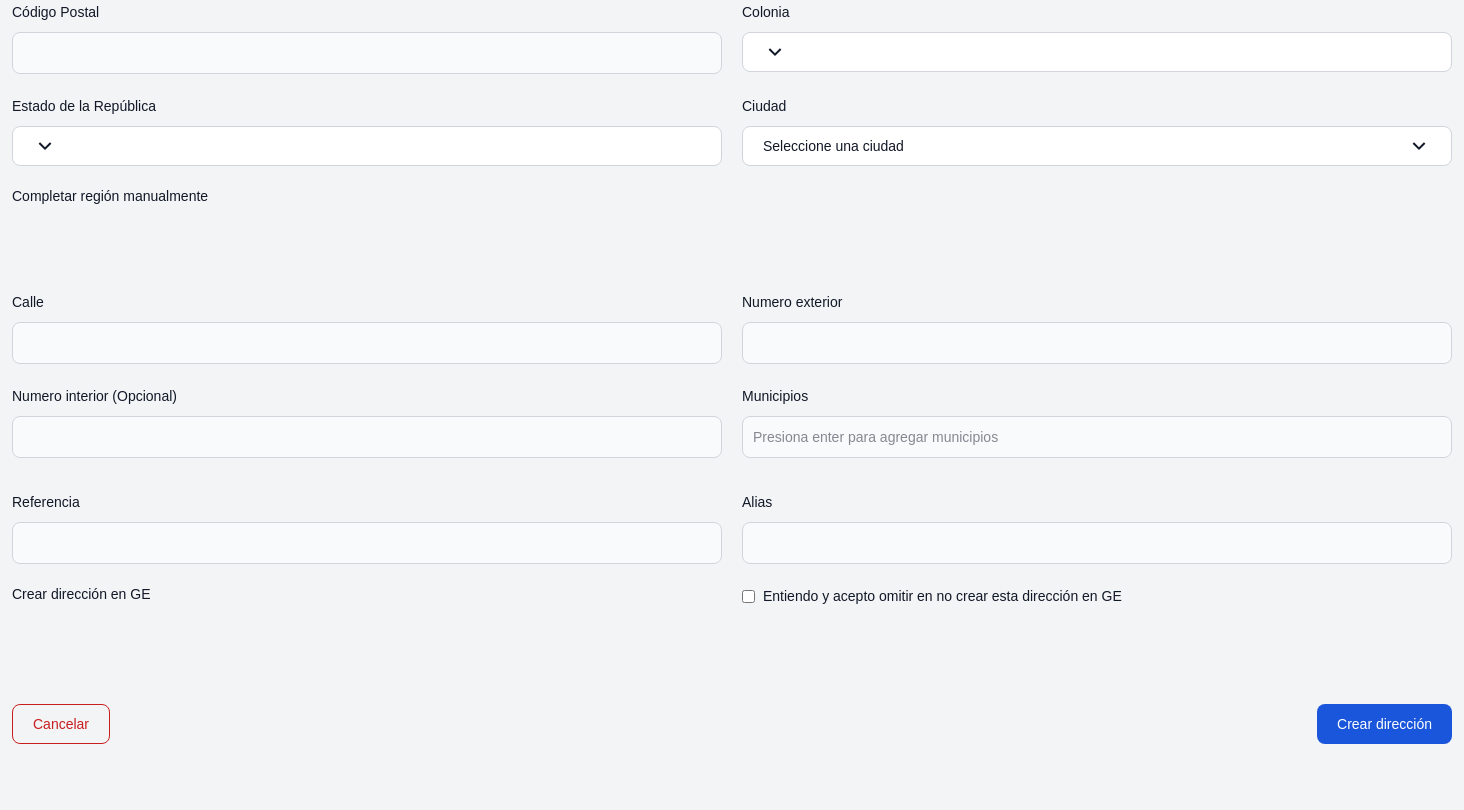
Scenario: Feature: Create Address Subform › Scenario: User can add and remove cities tags in manual mode › Given manual mode is enabled, When the user adds a city tag, Then it should appear in the list
Click the switch labelled "Completar región manualmente".
click(110, 198)  # box [12,186,208,210]
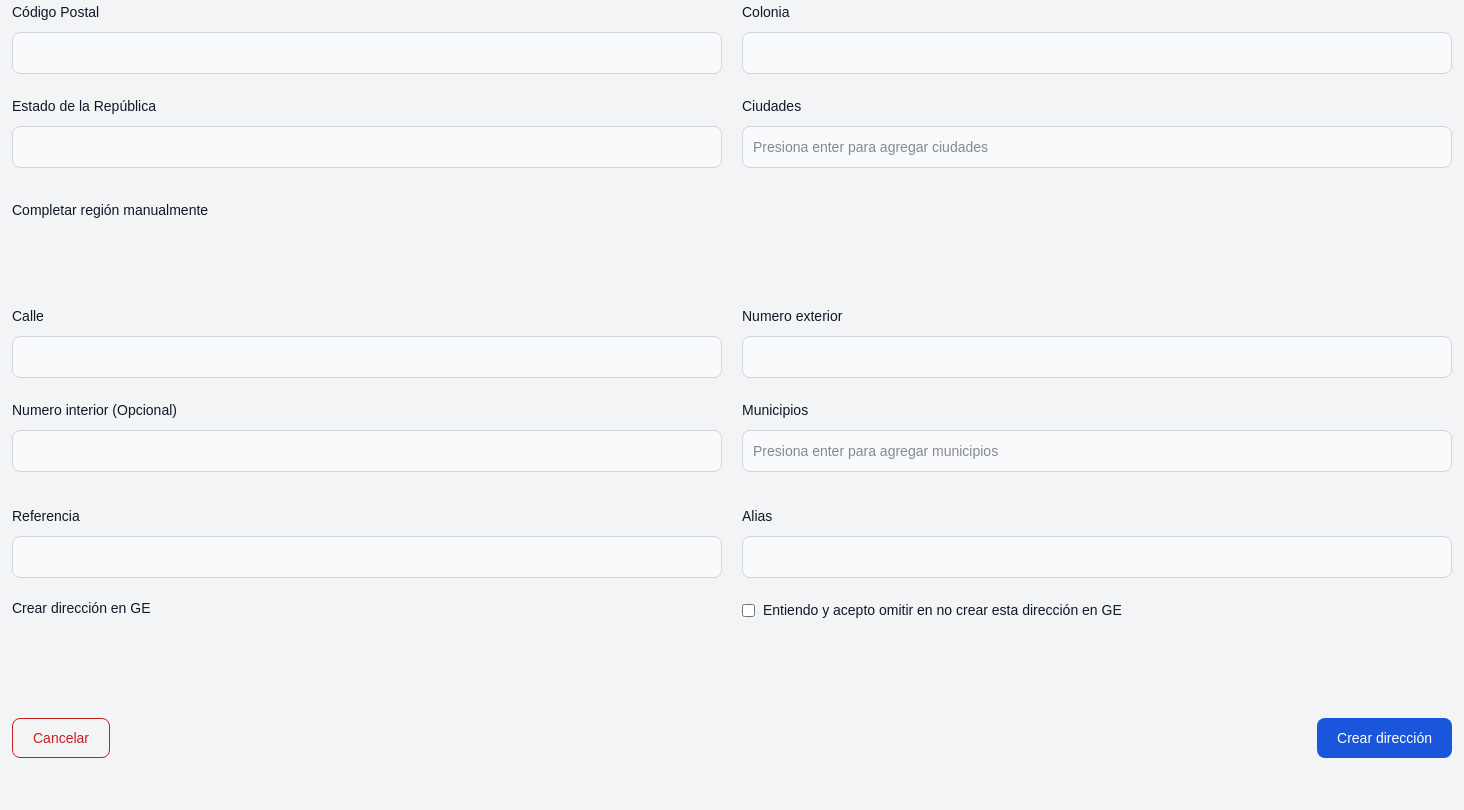
Check: the field with test id "cities" is shown
Type "Guadalajara" into the field with test id "cities".
click(1097, 147); type("Guadalajara")  # box [742,126,1452,168]
Then press Enter
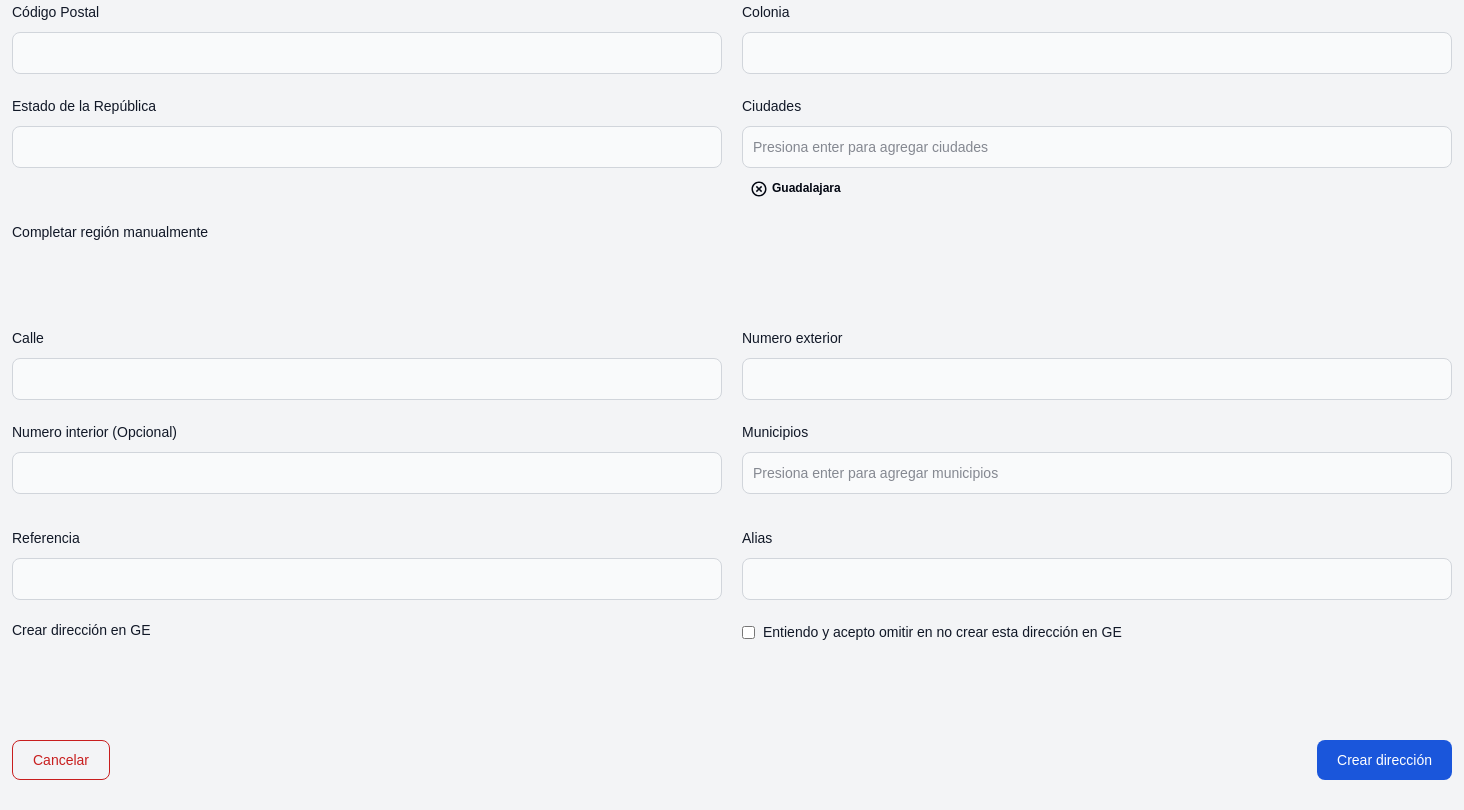
Check: the text "Guadalajara" is shown, box [750,180,841,198]
